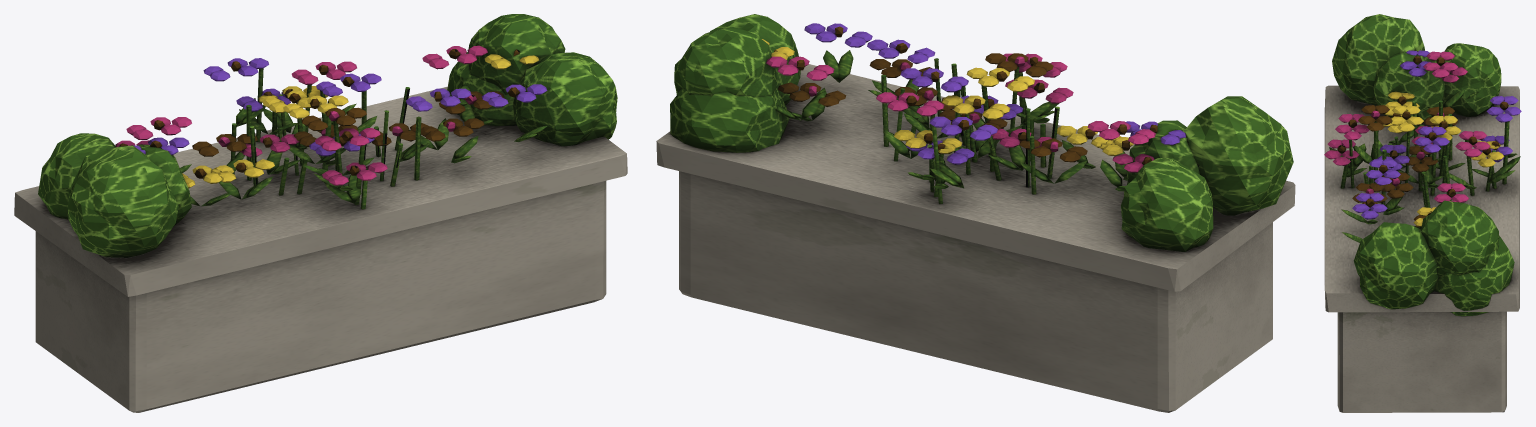
The model's file is cenario_floreira.glb.
The picture shows the model from 3 angles, left to right: view 1: azimuth 30°, elevation 25°; view 2: azimuth 150°, elevation 25°; view 3: azimuth 270°, elevation 25°; orthographic projection. The views are drawn at different scales.
Parts seen in each view (by area): view 1: cenario_floreira; view 2: cenario_floreira; view 3: cenario_floreira.
Part boxes in pixels (x1=…): cenario_floreira: x1=14, y1=14, x2=627, y2=412; cenario_floreira: x1=656, y1=14, x2=1295, y2=412; cenario_floreira: x1=1324, y1=14, x2=1521, y2=412.
Bounding box in the file's own units: 2.07 × 0.8778 × 0.7608.
Materials: 1 (1 with a texture image).
